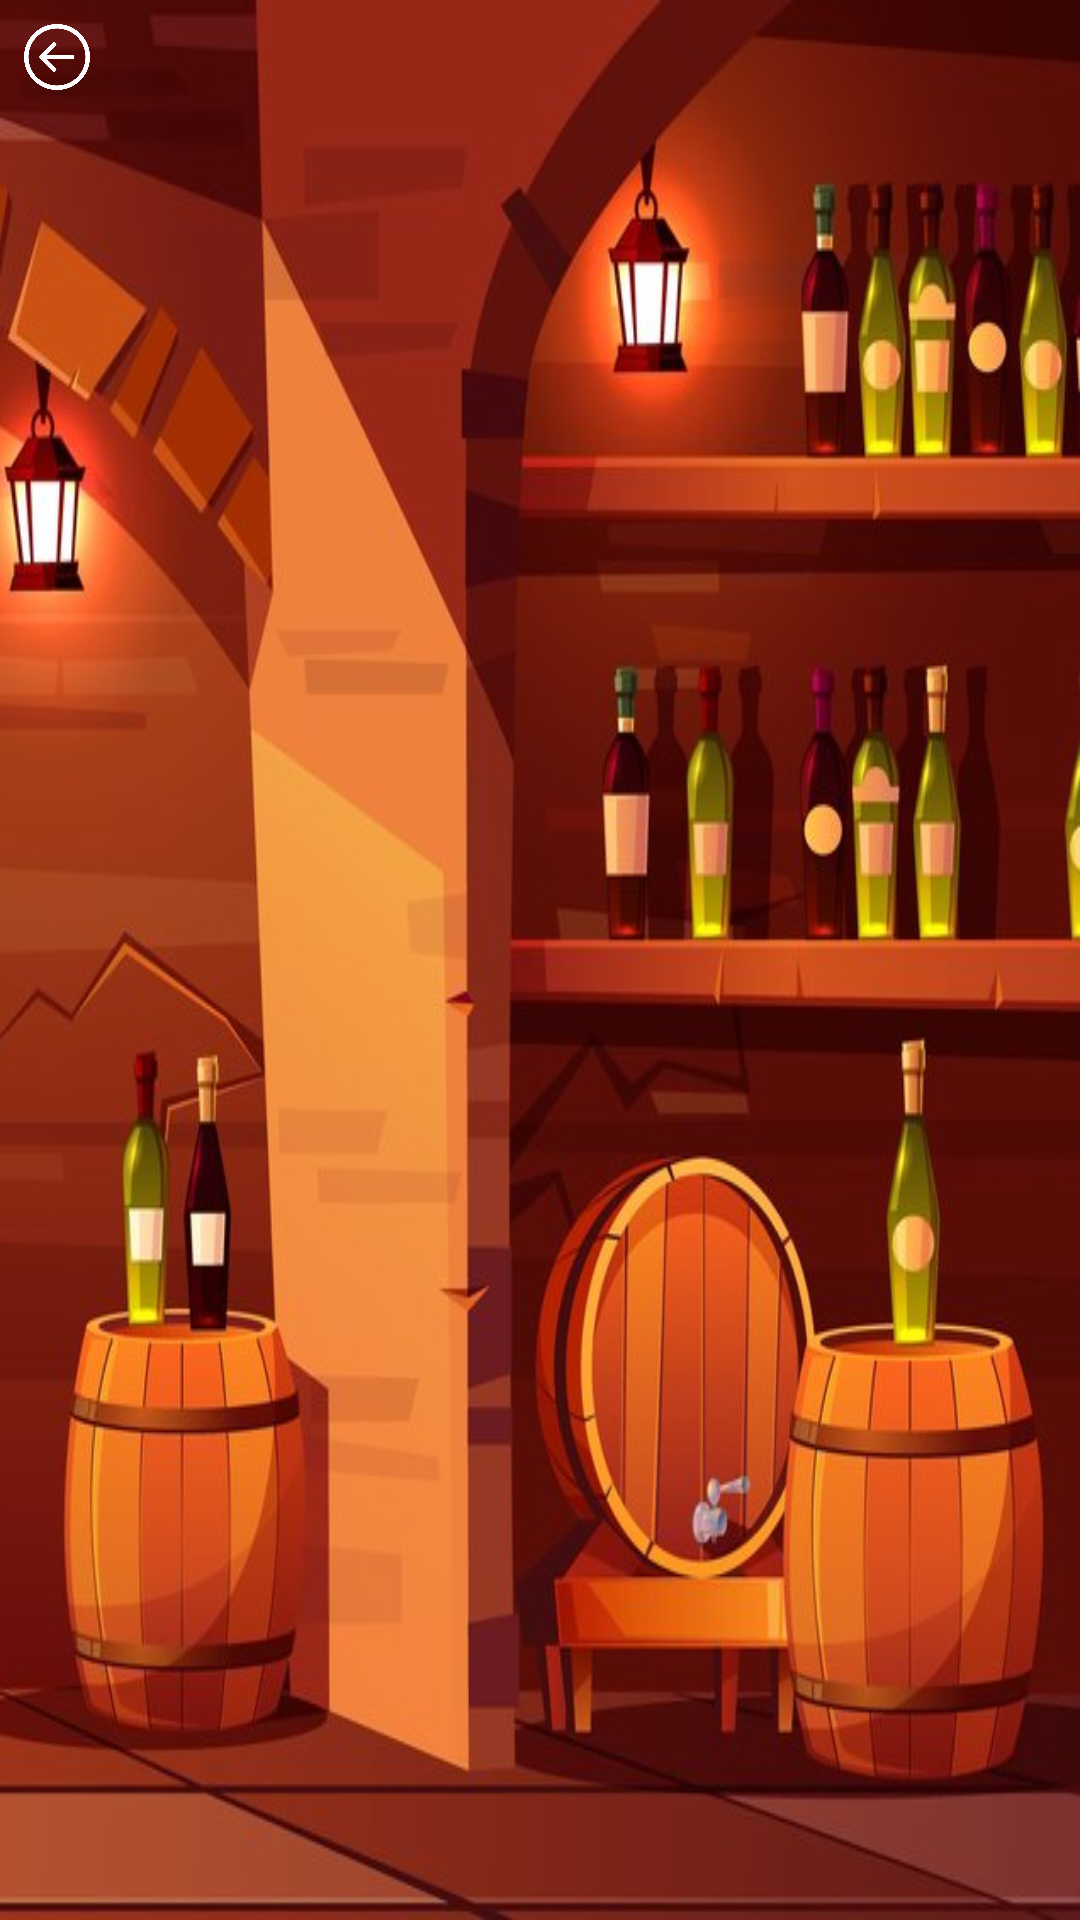

Named icons in this screenshot (1080 x 1920) and their bounding boxes, (x1,y1,x2,y2):
backbutton: (24,24,90,90)
